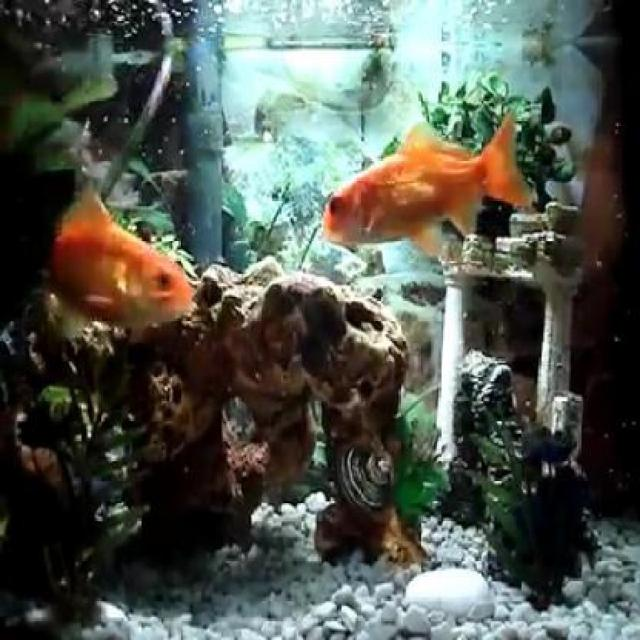GoldFish: (316, 120, 535, 262), (47, 183, 198, 343)
